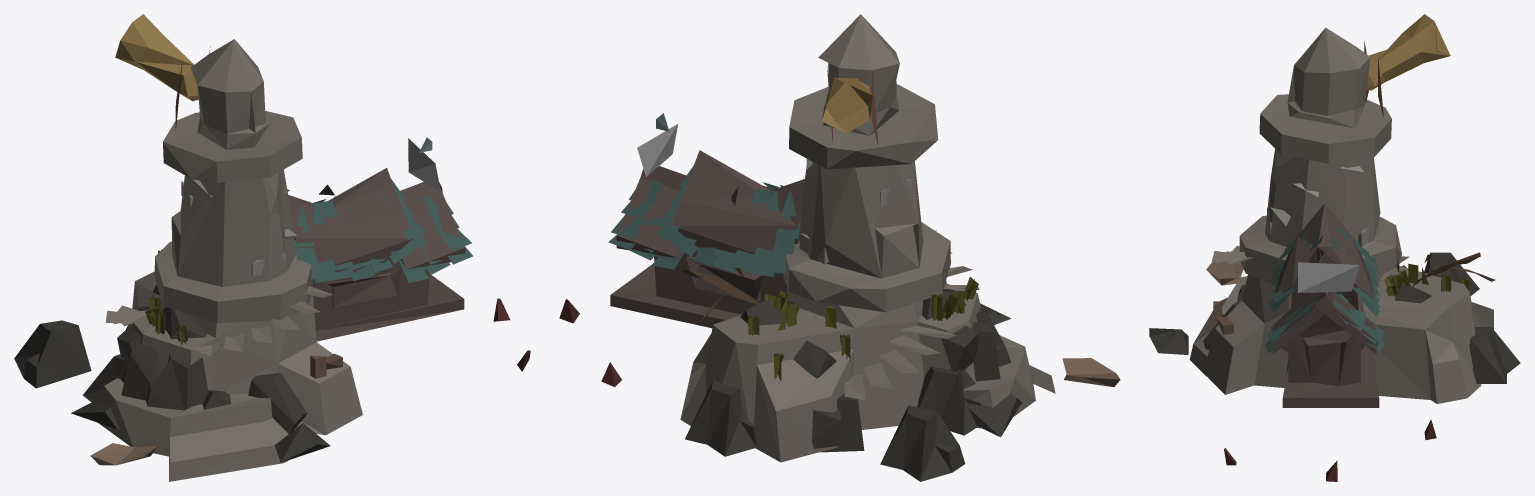
File: lighthouse.lod1.glb
3 renders of one model, left to right at view 1: azimuth 30°, elevation 25°; view 2: azimuth 150°, elevation 25°; view 3: azimuth 270°, elevation 25°, orthographic. The views are drawn at different scales.
Visible parts, largest first — view 1: Cylinder001_Material #343_0; view 2: Cylinder001_Material #343_0; view 3: Cylinder001_Material #343_0.
Part boxes in pixels (box(x1,y1,x2,y2)): Cylinder001_Material #343_0: box(14, 14, 530, 481); Cylinder001_Material #343_0: box(559, 14, 1120, 481); Cylinder001_Material #343_0: box(1149, 14, 1520, 481).
Size of the model in its own units: 27.61 by 20.7 by 20.08.
